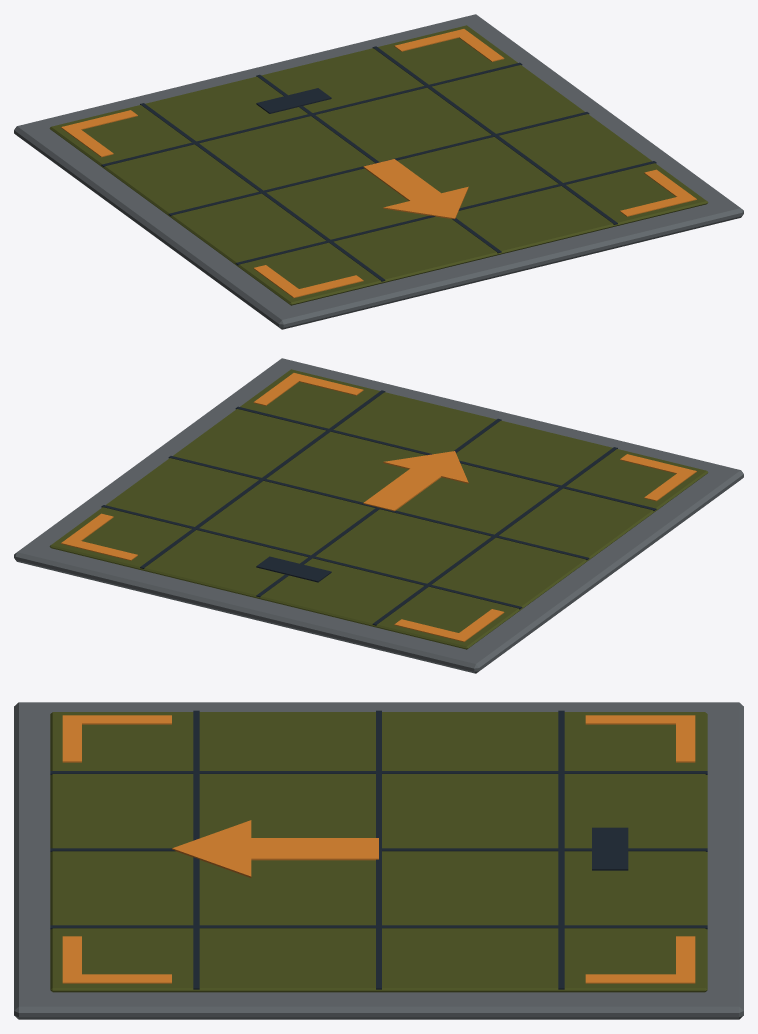
File: vehicle_pad.obj
3 renders of one model, top to bottom at view 1: azimuth 30°, elevation 25°; view 2: azimuth 150°, elevation 25°; view 3: azimuth 270°, elevation 25°, orthographic. The views are drawn at different scales.
Visible parts, largest first — view 1: vehicle_pad; view 2: vehicle_pad; view 3: vehicle_pad.
Part boxes in pixels (x1,y1,x2,y2): vehicle_pad: (14, 14, 743, 329); vehicle_pad: (14, 358, 743, 673); vehicle_pad: (14, 702, 743, 1019).
Size of the model in its own units: 6 by 0.175 by 6.
